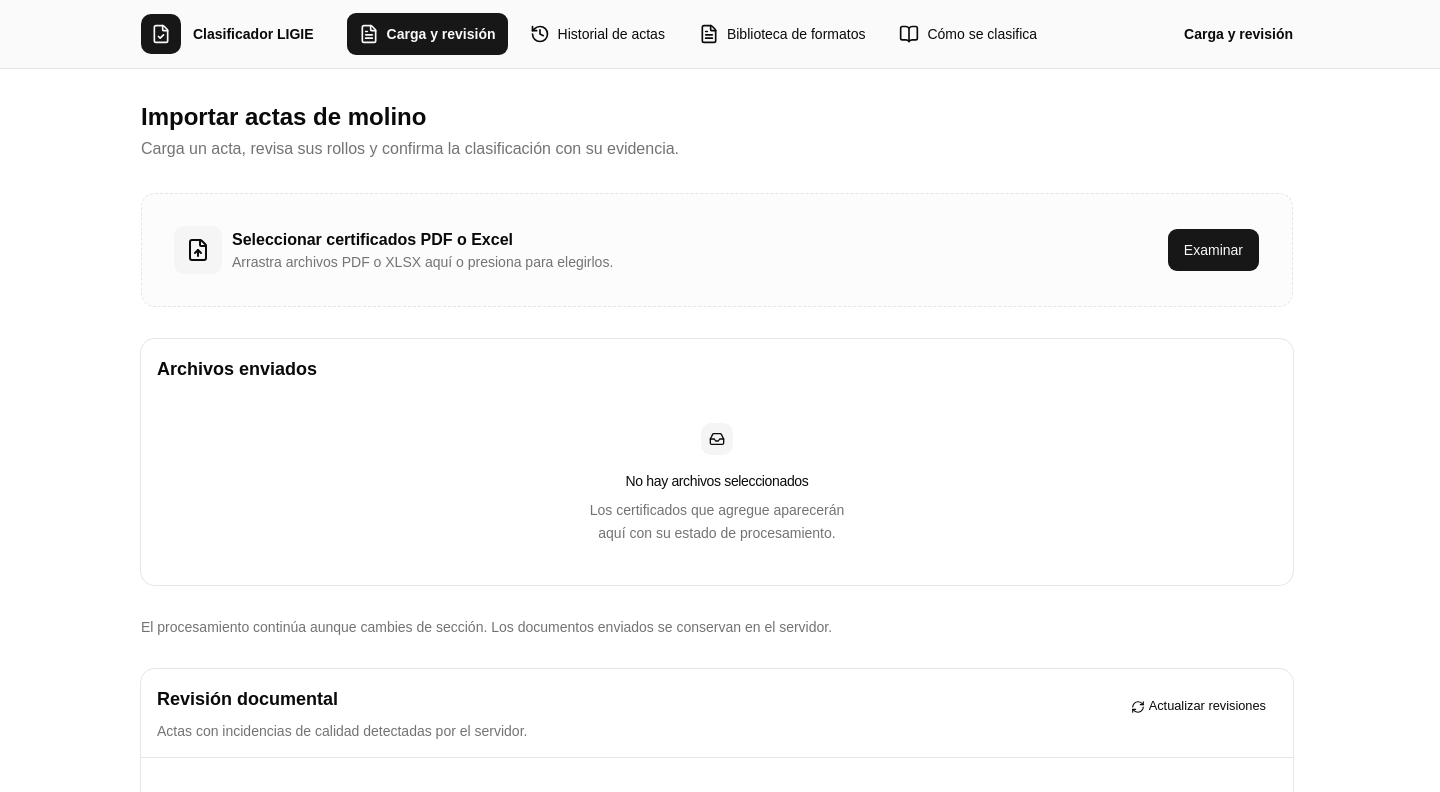
Test case: Flujo de revisión y validación de acta › muestra datos reales de API, permite navegar entre pestañas, seleccionar candidato y dictaminar
This screenshot has width=1440, height=792.
Expected: the heading "Importar actas de molino" is shown, [141,103,426,130]
Click the button "Historial de actas" at (597, 34), box [516,12,678,56]
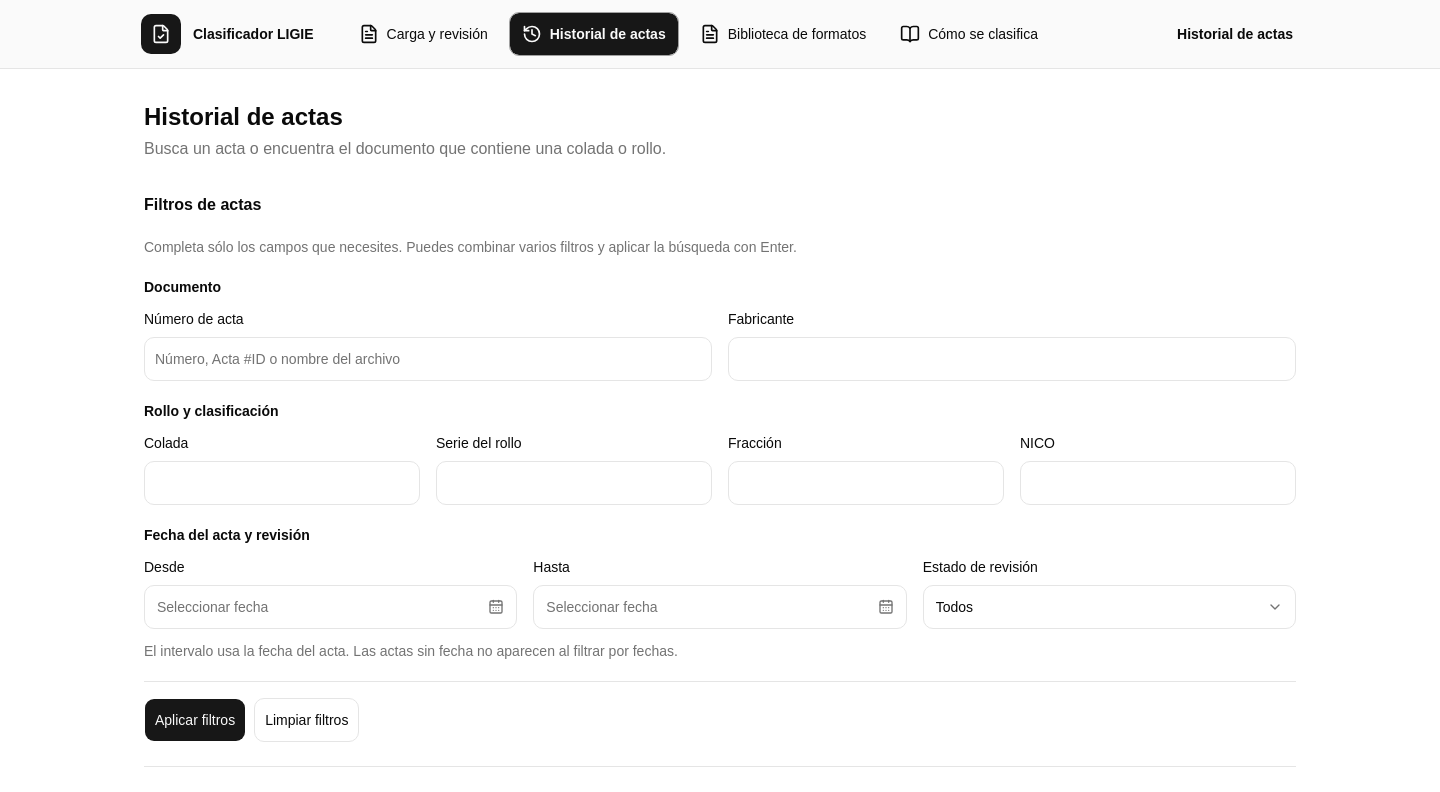
Click the button "Carga y revisión" at (423, 34), box [346,12,501,56]
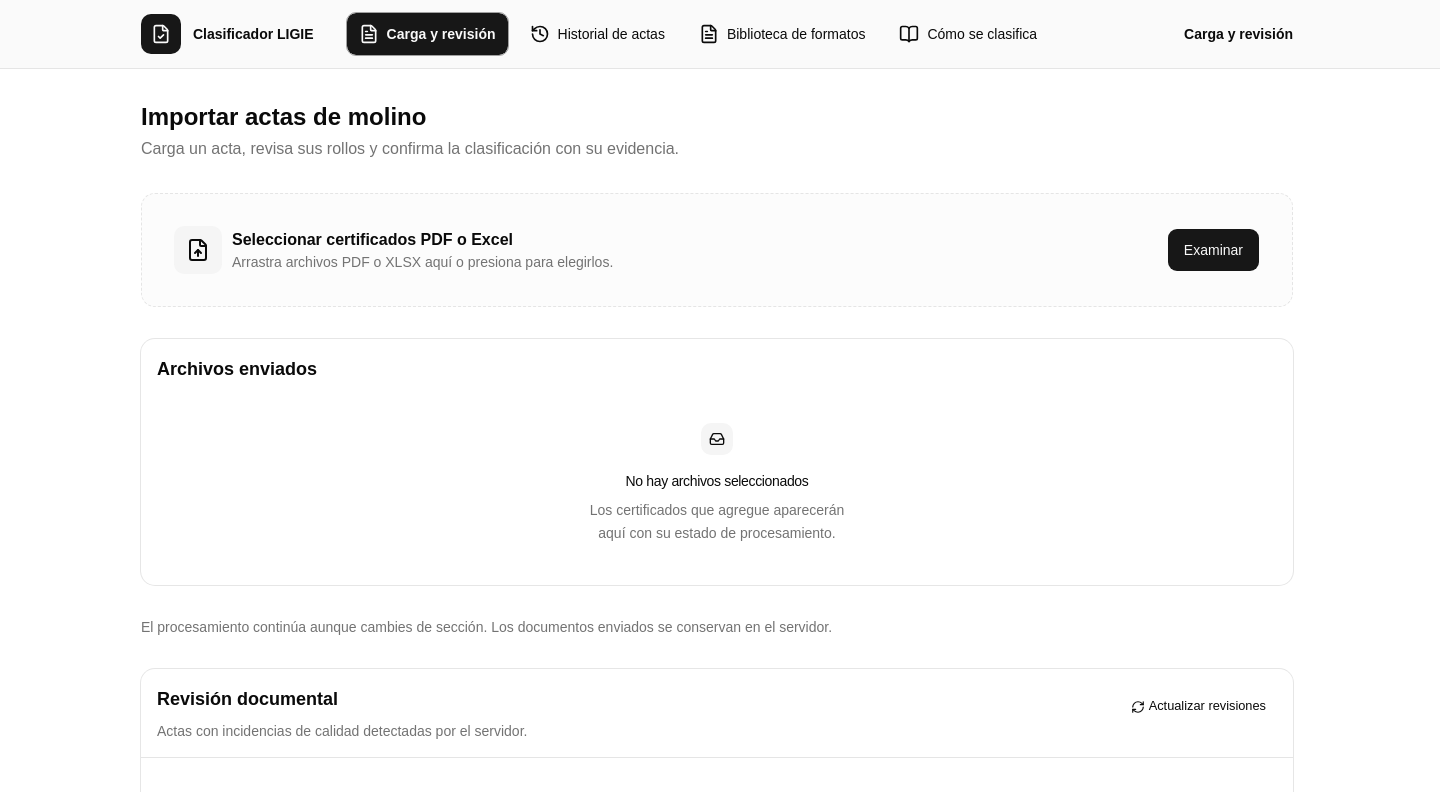
Expected: the heading "Importar actas de molino" is shown, [141,103,426,130]
